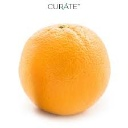orange: (17, 22, 113, 117)
